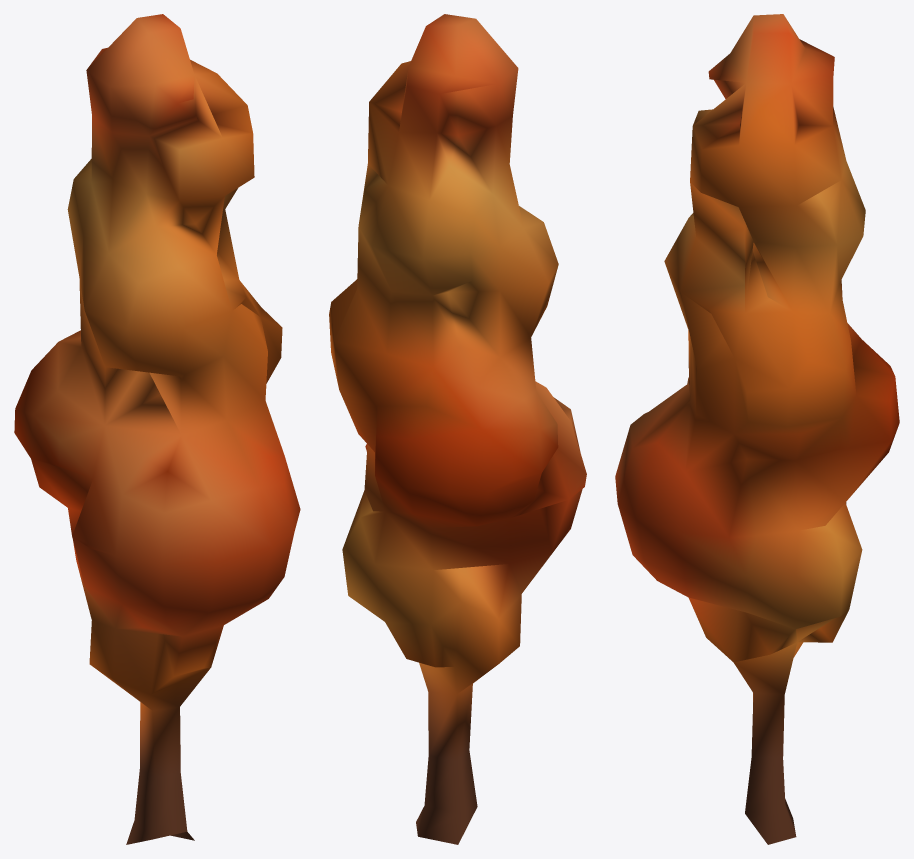
Rendered from tall-tree-117-lod3.obj.
The picture shows the model from 3 angles, left to right: view 1: azimuth 30°, elevation 25°; view 2: azimuth 150°, elevation 25°; view 3: azimuth 270°, elevation 25°; orthographic projection. The views are drawn at different scales.
Parts seen in each view (by area): view 1: simplified; view 2: simplified; view 3: simplified.
Part boxes in pixels (x1,y1,x2,y2): simplified: (14,14,300,844); simplified: (329,14,586,844); simplified: (615,14,899,844).
Bounding box in the file's own units: 194 × 687 × 220.
